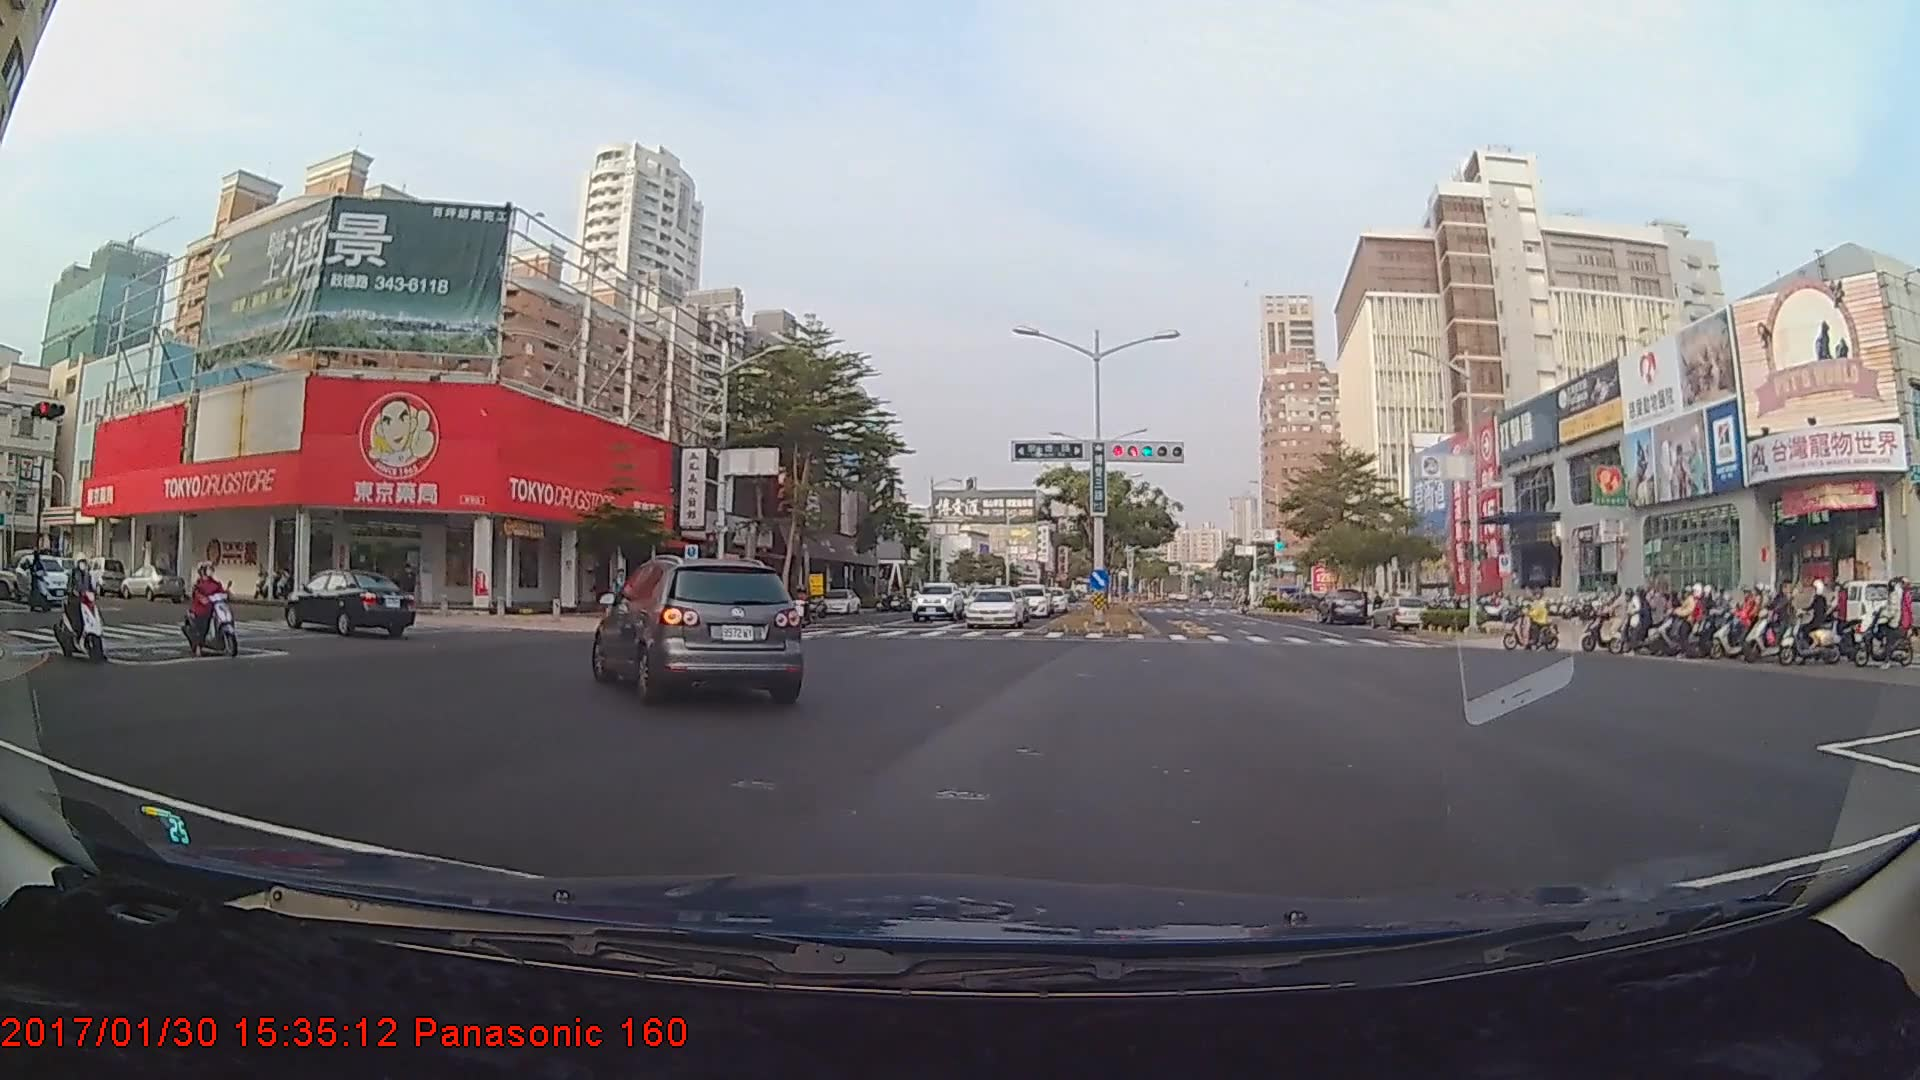rider: (50, 555, 110, 663), (177, 561, 240, 659), (1852, 578, 1920, 668), (1702, 584, 1773, 662), (1596, 596, 1670, 656), (1738, 584, 1796, 659), (1652, 586, 1710, 658), (1500, 585, 1562, 653), (1661, 592, 1710, 658)
vehicle: (590, 552, 804, 704), (284, 567, 415, 639), (14, 553, 74, 604), (962, 588, 1024, 629), (907, 580, 964, 621), (39, 555, 96, 592), (1314, 587, 1365, 624), (1011, 583, 1050, 617), (817, 587, 860, 614)
